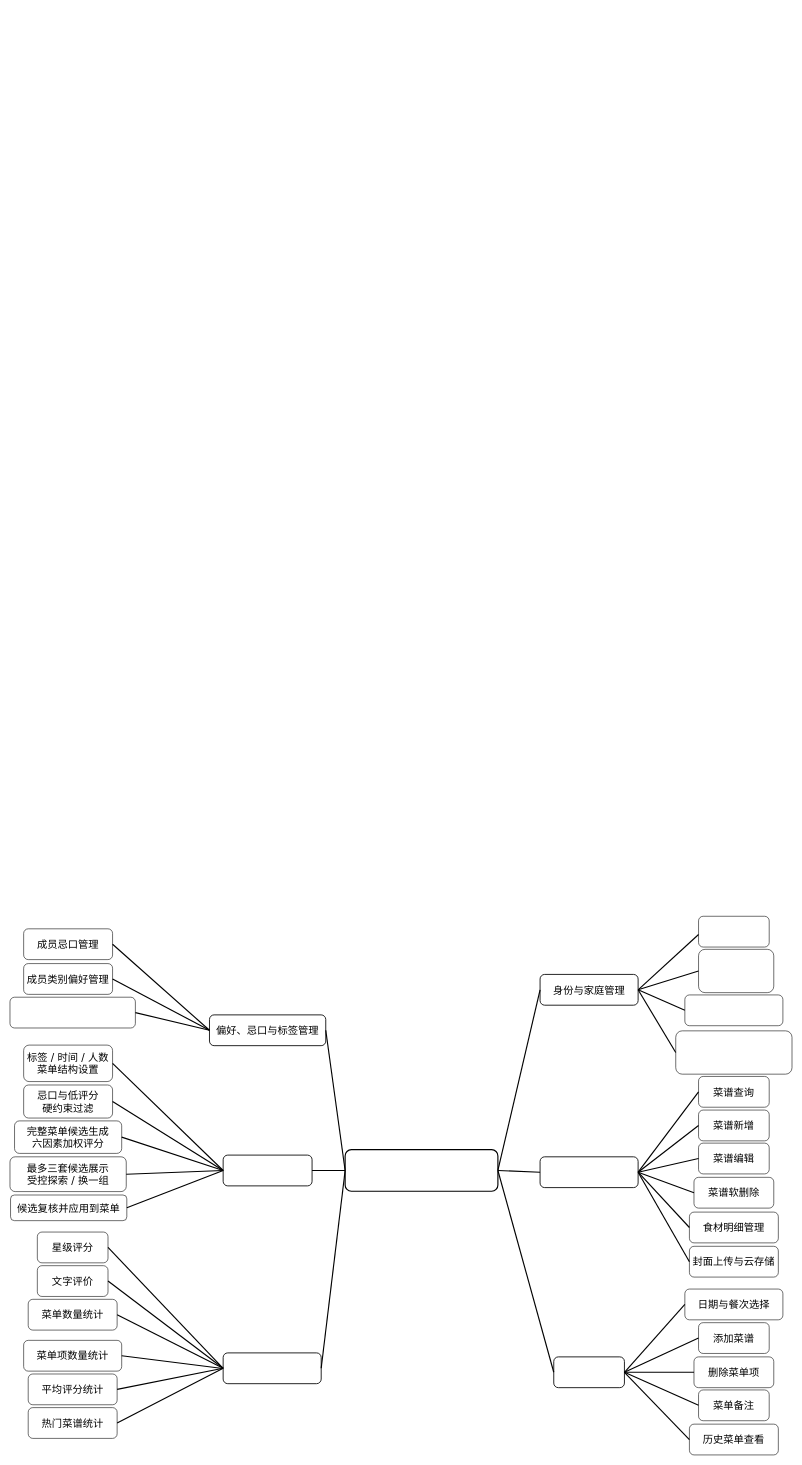
Some shapes in this 802 by 1465 pixel diagram are drawn without their labels. Each missing label, with the centre of its shape:
创建家庭 初始化 Starter Recipes: (736,971)
基于微信小程序的 家庭膳食管理与菜谱推荐系统: (421,1170)
微信登录与资料完善: (733,931)
成员管理 / 管理员转移 退出 / 解散恢复 / 账号注销: (733,1052)
用餐反馈与统计: (271,1368)
系统 / 家庭自定义标签管理: (72,1012)
菜单管理: (589,1372)
菜谱与食材管理: (588,1172)
菜谱推荐管理: (267,1170)
邀请码加入家庭: (733,1010)
